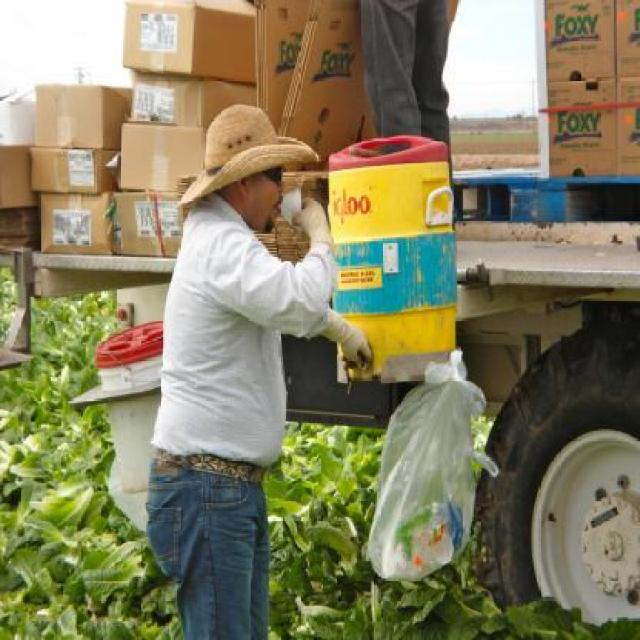plastic bag: (364, 343, 498, 580)
